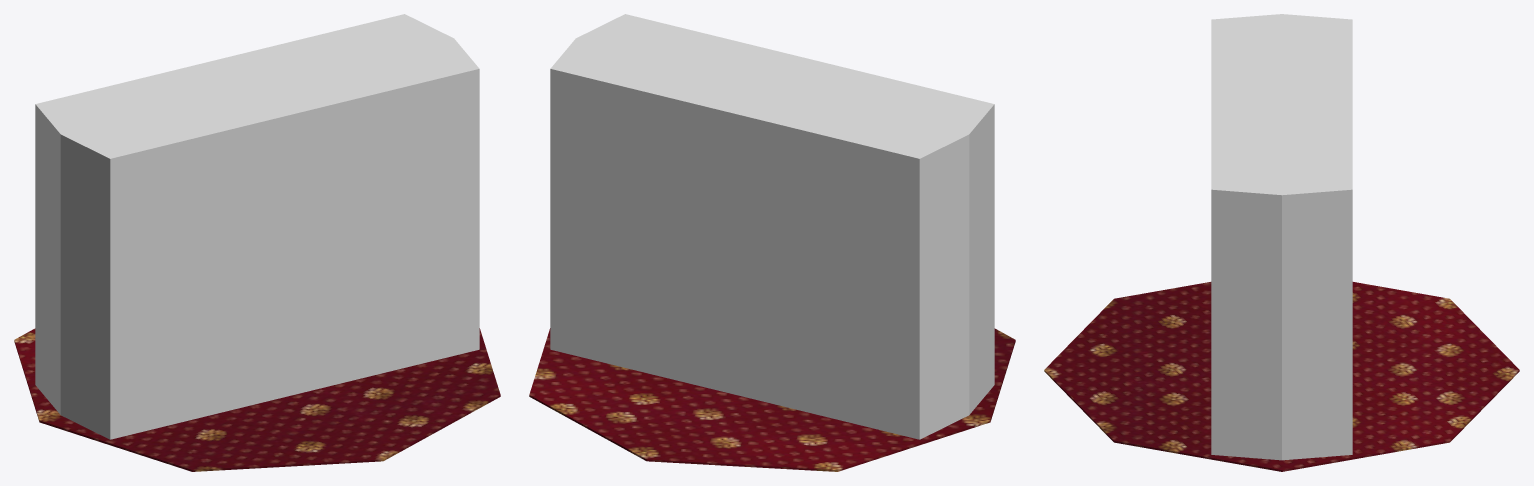
Rendered from chip_statue.fbx.
3 renders of one model, left to right at view 1: azimuth 30°, elevation 25°; view 2: azimuth 150°, elevation 25°; view 3: azimuth 270°, elevation 25°, orthographic. The views are drawn at different scales.
Visible parts, largest first — view 1: chip_box, chip; view 2: chip_box, chip; view 3: chip_box, chip.
Part boxes in pixels (<box>): chip_box: <box>35,14,479,439</box>; chip: <box>14,328,500,471</box>; chip_box: <box>550,14,994,439</box>; chip: <box>529,328,1015,471</box>; chip_box: <box>1211,14,1352,460</box>; chip: <box>1044,282,1519,471</box>.
Bounding box in the file's own units: 673 × 417 × 673.
Materials: 1 (1 with a texture image).
